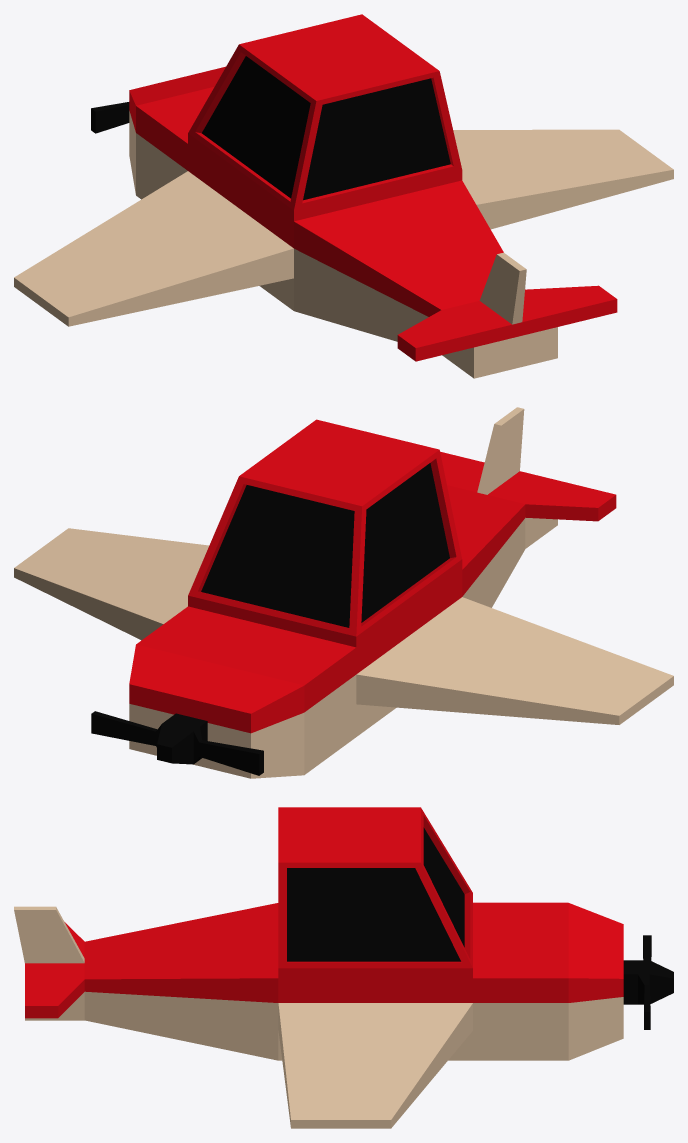
3 views of the same model, one above another, from view 1: azimuth 30°, elevation 25°; view 2: azimuth 150°, elevation 25°; view 3: azimuth 270°, elevation 25° (orthographic). The views are drawn at different scales.
Visible parts, largest first — view 1: Cube, Cube.001; view 2: Cube, Cube.001; view 3: Cube, Cube.001.
Part boxes in pixels (box(x1,y1,x2,y2)): Cube: box(14, 14, 673, 378); Cube.001: box(91, 102, 129, 133); Cube: box(14, 407, 673, 778); Cube.001: box(91, 711, 263, 775); Cube: box(14, 807, 623, 1128); Cube.001: box(623, 935, 673, 1029).
Size of the model in its own units: 255 by 82.4 by 262.
